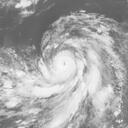cyclone: (29, 35, 105, 102)
